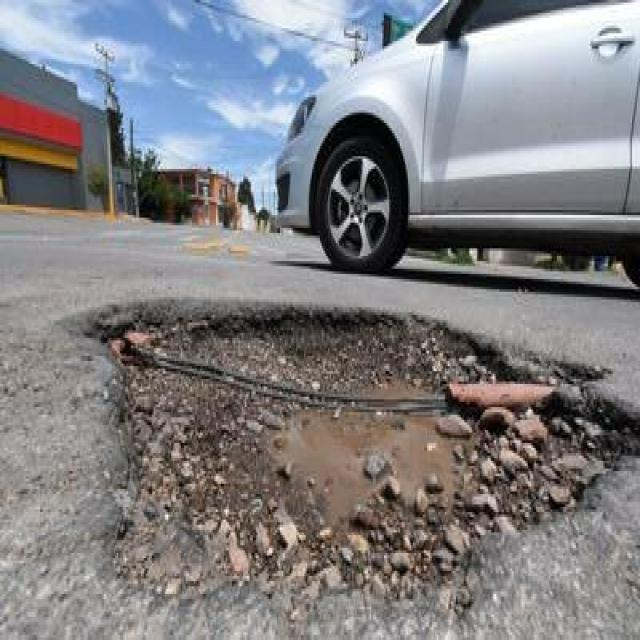Buraco: (46, 296, 640, 634)
